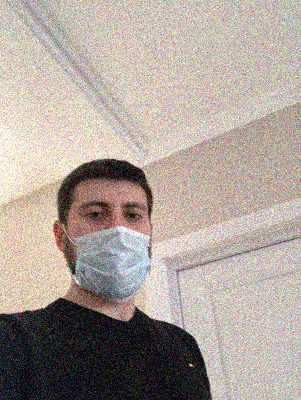with_mask: (69, 194, 152, 302)
